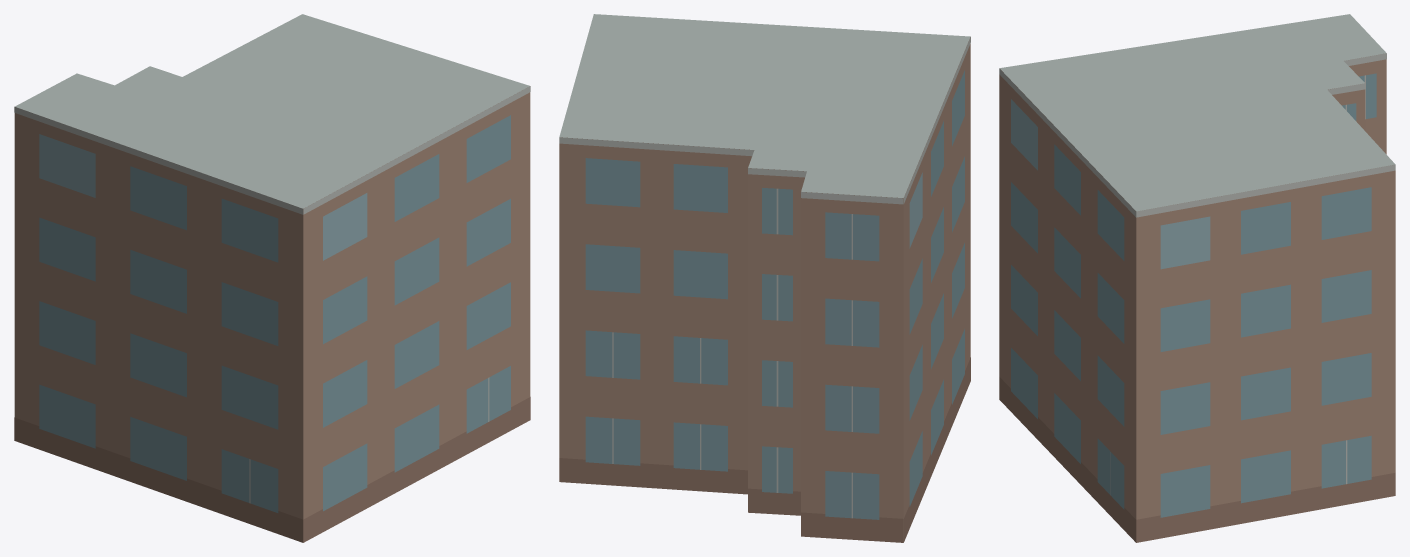
File: survey-upis-32725049.glb
3 renders of one model, left to right at view 1: azimuth 30°, elevation 25°; view 2: azimuth 150°, elevation 25°; view 3: azimuth 270°, elevation 25°, orthographic. The views are drawn at different scales.
Parts seen in each view (by area): view 1: survey-upis-32725049.tmp; view 2: survey-upis-32725049.tmp; view 3: survey-upis-32725049.tmp.
Part boxes in pixels (bbox=[...]): survey-upis-32725049.tmp: bbox=[14, 14, 530, 542]; survey-upis-32725049.tmp: bbox=[559, 14, 970, 542]; survey-upis-32725049.tmp: bbox=[999, 14, 1395, 542].
Size of the model in its own units: 17.01 by 13.3 by 14.42.
